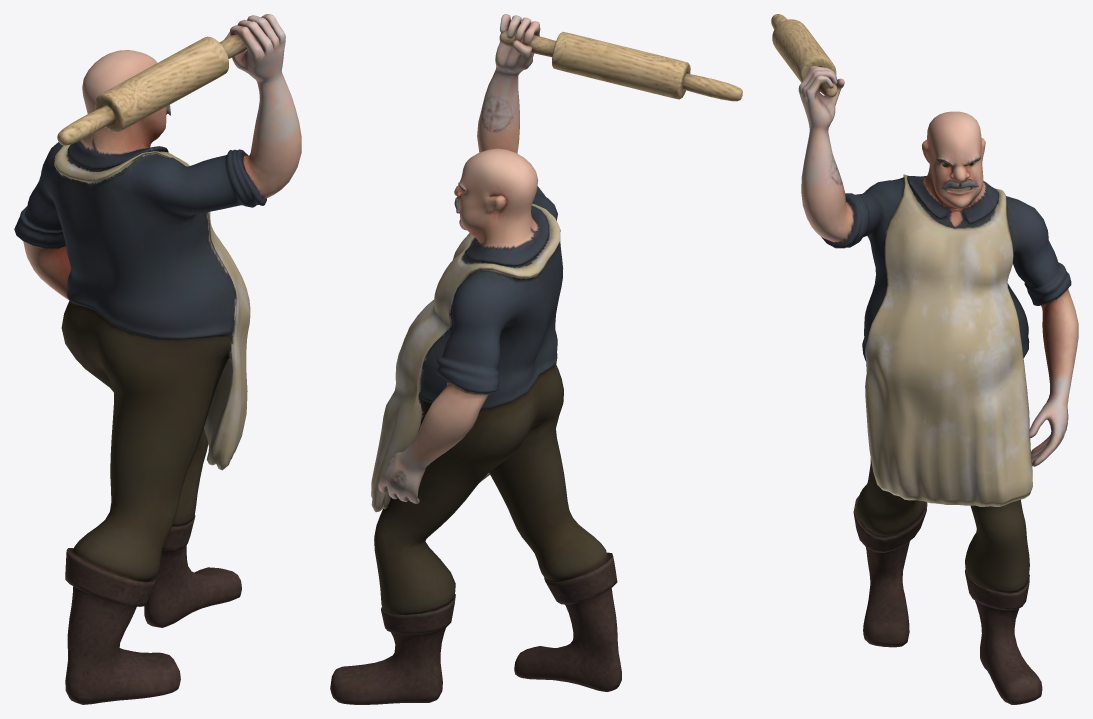
The model's file is MZ4250 - Angry Baker.glb.
3 renders of one model, left to right at view 1: azimuth 30°, elevation 25°; view 2: azimuth 150°, elevation 25°; view 3: azimuth 270°, elevation 25°, orthographic. The views are drawn at different scales.
Visible parts, largest first — view 1: Cylinder.001; view 2: Cylinder.001; view 3: Cylinder.001.
Part boxes in pixels (x1,y1,x2,y2): Cylinder.001: (14, 14, 301, 704); Cylinder.001: (330, 14, 742, 704); Cylinder.001: (771, 14, 1078, 704).
Bounding box in the file's own units: 0.4993 × 1.03 × 0.4806.
Materials: 1 (1 with a texture image).
